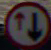Two way: (5, 4, 46, 40)
